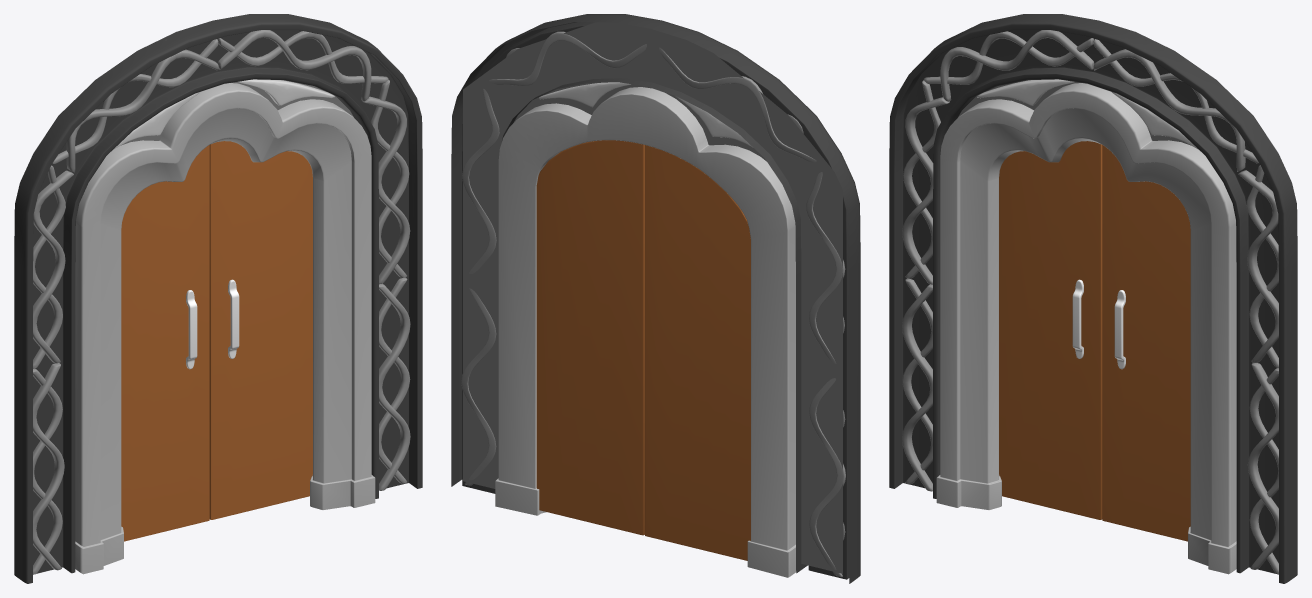
The model's file is Fancy_Door.fbx.
3 renders of one model, left to right at view 1: azimuth 30°, elevation 25°; view 2: azimuth 150°, elevation 25°; view 3: azimuth 330°, elevation 25°, orthographic.
Parts seen in each view (by area): view 1: Cylinder.013; view 2: Cylinder.013; view 3: Cylinder.013.
Boxes of the visible parts, x1,y1,x2,y2 form: Cylinder.013: [14, 14, 422, 583]; Cylinder.013: [451, 14, 860, 583]; Cylinder.013: [889, 14, 1297, 583].
Size of the model in its own units: 1136 by 124 by 1384.
